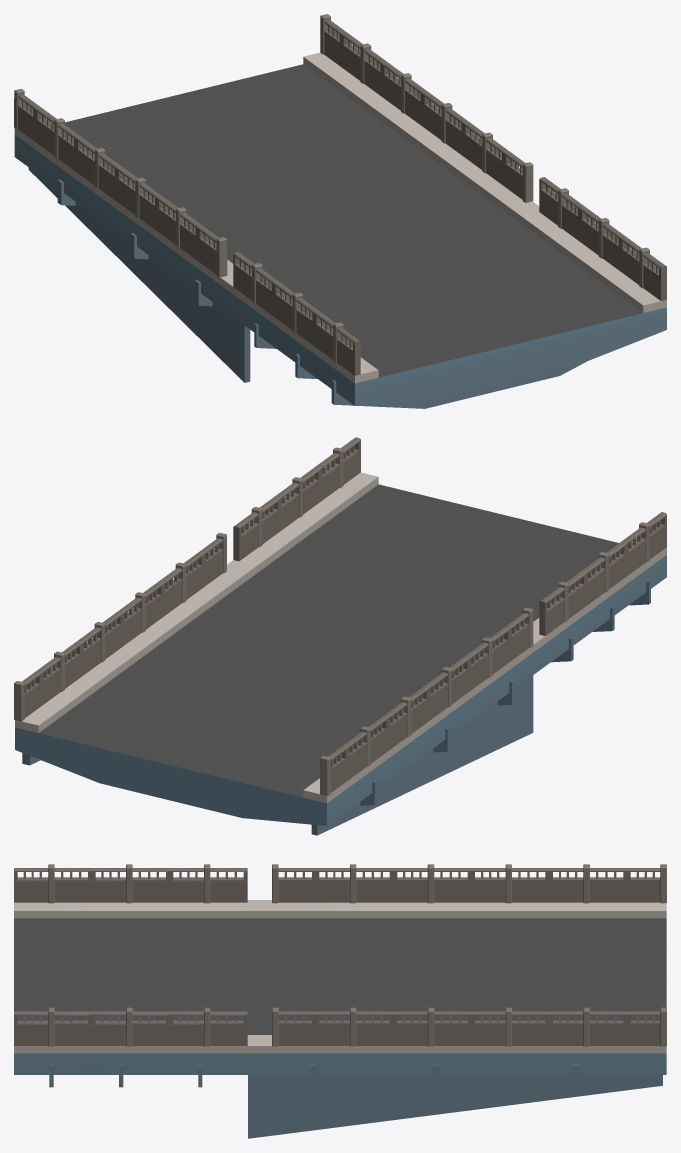
Rendered from Bridge.fbx.
The picture shows the model from 3 angles, top to bottom: view 1: azimuth 30°, elevation 25°; view 2: azimuth 150°, elevation 25°; view 3: azimuth 270°, elevation 25°; orthographic projection. The views are drawn at different scales.
Visible parts, largest first — view 1: BridgeMove_Part, Bridge_base, SM_Env_Bridge_Edge_12, SM_Env_Bridge_Edge_11; view 2: BridgeMove_Part, Bridge_base, SM_Env_Bridge_Edge_12, SM_Env_Bridge_Edge_11; view 3: BridgeMove_Part, Bridge_base, SM_Env_Bridge_Edge_12, SM_Env_Bridge_Edge_11.
Boxes of the visible parts, x1,y1,x2,y2 form: BridgeMove_Part: [14, 52, 539, 382]; Bridge_base: [231, 212, 666, 408]; SM_Env_Bridge_Edge_12: [14, 14, 533, 277]; SM_Env_Bridge_Edge_11: [233, 177, 666, 375]; BridgeMove_Part: [15, 560, 545, 835]; Bridge_base: [240, 472, 666, 665]; SM_Env_Bridge_Edge_12: [14, 533, 533, 795]; SM_Env_Bridge_Edge_11: [233, 437, 666, 635]; BridgeMove_Part: [246, 900, 666, 1138]; Bridge_base: [14, 902, 251, 1087]; SM_Env_Bridge_Edge_12: [272, 864, 666, 1046]; SM_Env_Bridge_Edge_11: [14, 864, 247, 1046].
Bounding box in the file's own units: 417 × 171 × 775.
